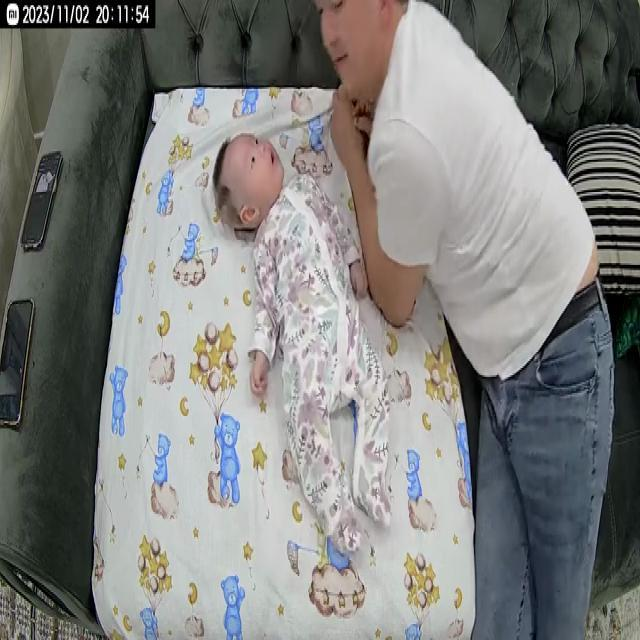baby: (210, 126, 407, 558)
